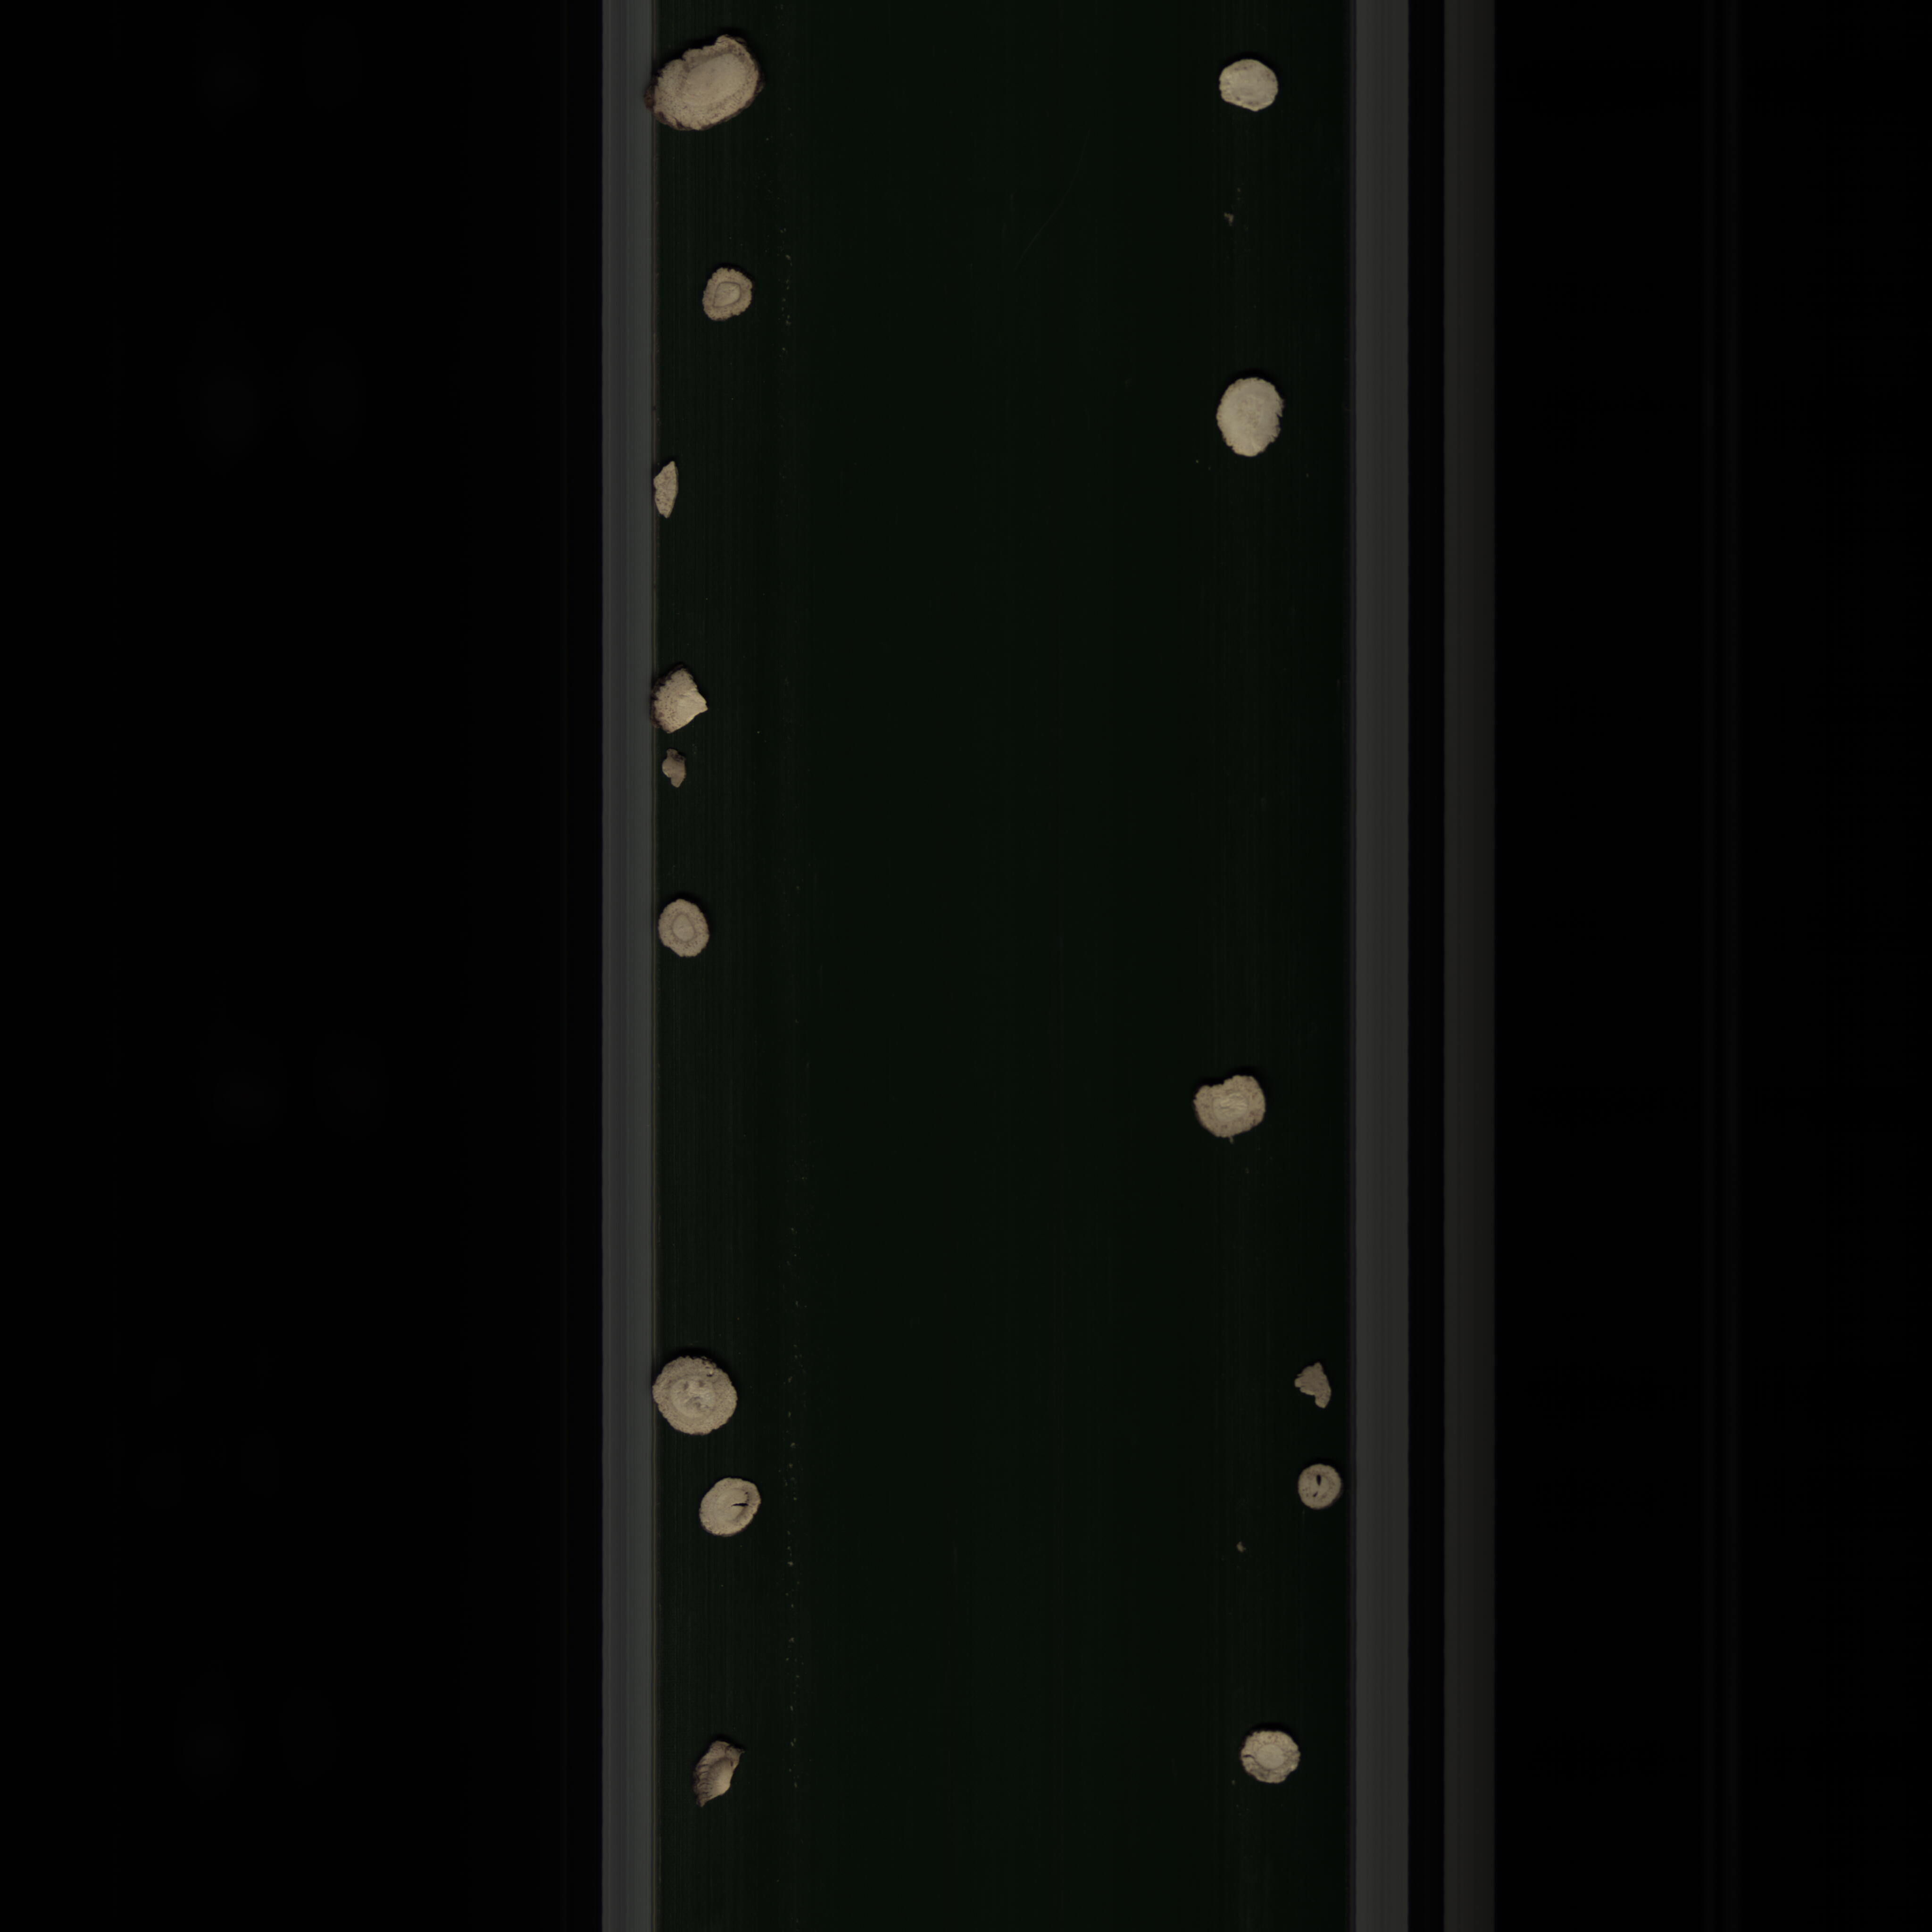bark: (1284, 1355, 1338, 1422), (658, 738, 686, 798)
debris: (648, 656, 713, 740), (651, 462, 686, 525)
hole: (695, 1465, 768, 1552), (1290, 1454, 1346, 1518)
moldy: (678, 1730, 752, 1808)
